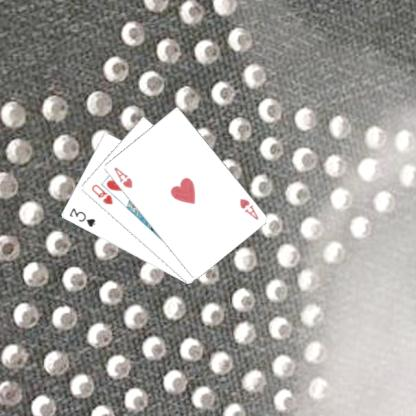3S: (66, 204, 97, 228)
AH: (236, 196, 260, 222), (111, 164, 133, 190)
QH: (88, 181, 114, 206)
